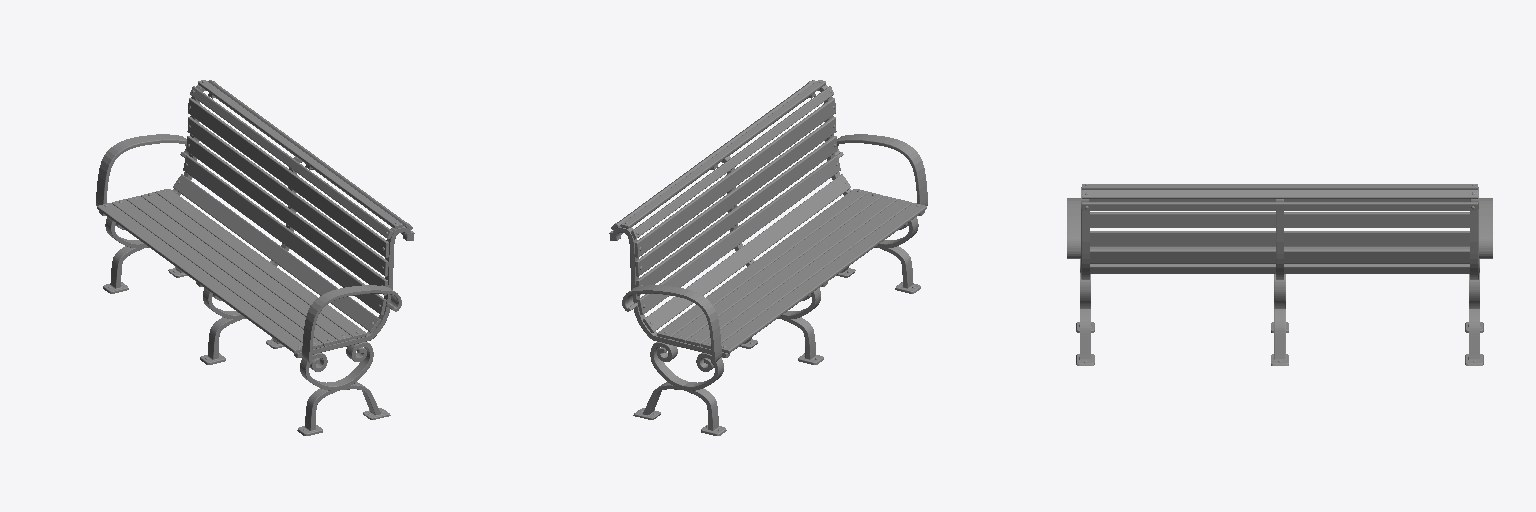
Rendered from classic_park_bench.obj.
The picture shows the model from 3 angles: view 1: azimuth 30°, elevation 25°; view 2: azimuth 150°, elevation 25°; view 3: azimuth 270°, elevation 25°; orthographic projection.
Parts seen in each view (by area): view 1: clasic_park_bench_001; view 2: clasic_park_bench_001; view 3: clasic_park_bench_001.
Part boxes in pixels (x1,y1,x2,y2): clasic_park_bench_001: (96, 80, 414, 435); clasic_park_bench_001: (609, 80, 927, 435); clasic_park_bench_001: (1067, 184, 1492, 365).
Bounding box in the file's own units: 75.91 × 112 × 232.